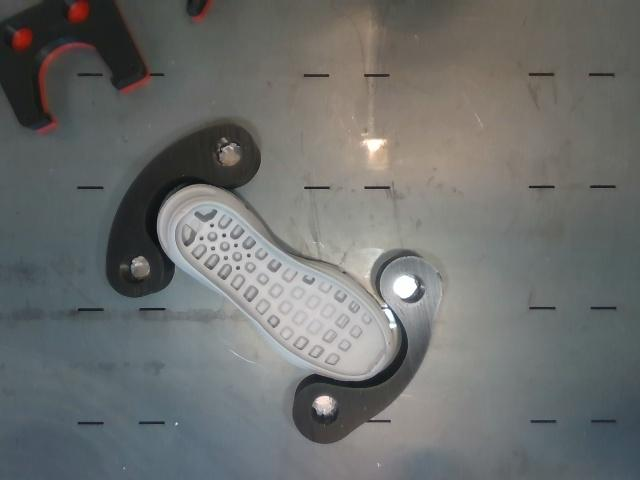shoes: (175, 204, 386, 376)
